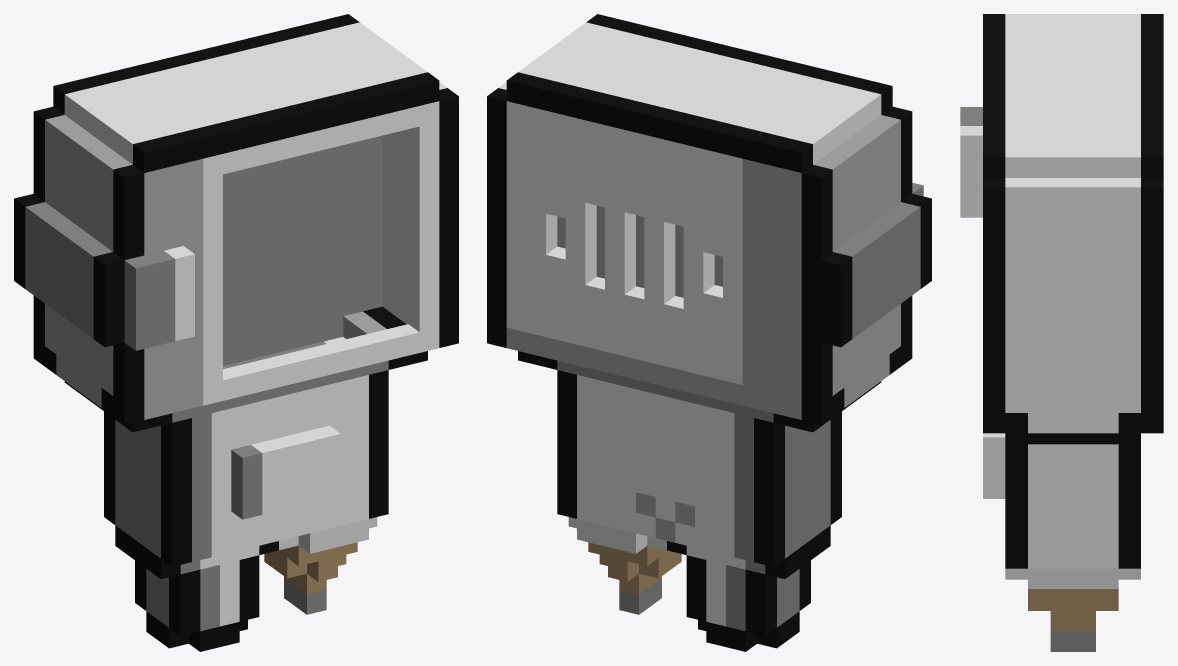
The model's file is body_pirate.glb.
3 renders of one model, left to right at view 1: azimuth 30°, elevation 25°; view 2: azimuth 150°, elevation 25°; view 3: azimuth 270°, elevation 25°, orthographic.
Visible parts, largest first — view 1: model_0; view 2: model_0; view 3: model_0.
Part boxes in pixels (x1,y1,x2,y2): model_0: (14, 14, 458, 651); model_0: (487, 14, 931, 651); model_0: (960, 14, 1163, 651).
Size of the model in its own units: 18 by 26 by 9.
